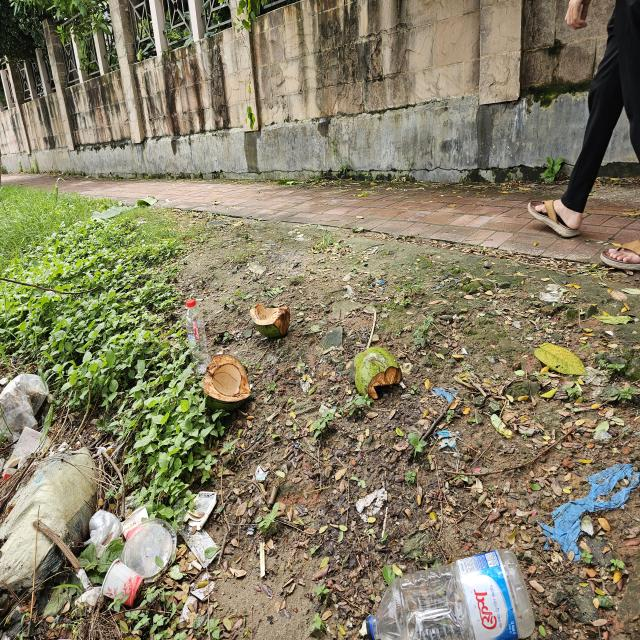artificial_container: (365, 550, 533, 640), (187, 298, 210, 374)
